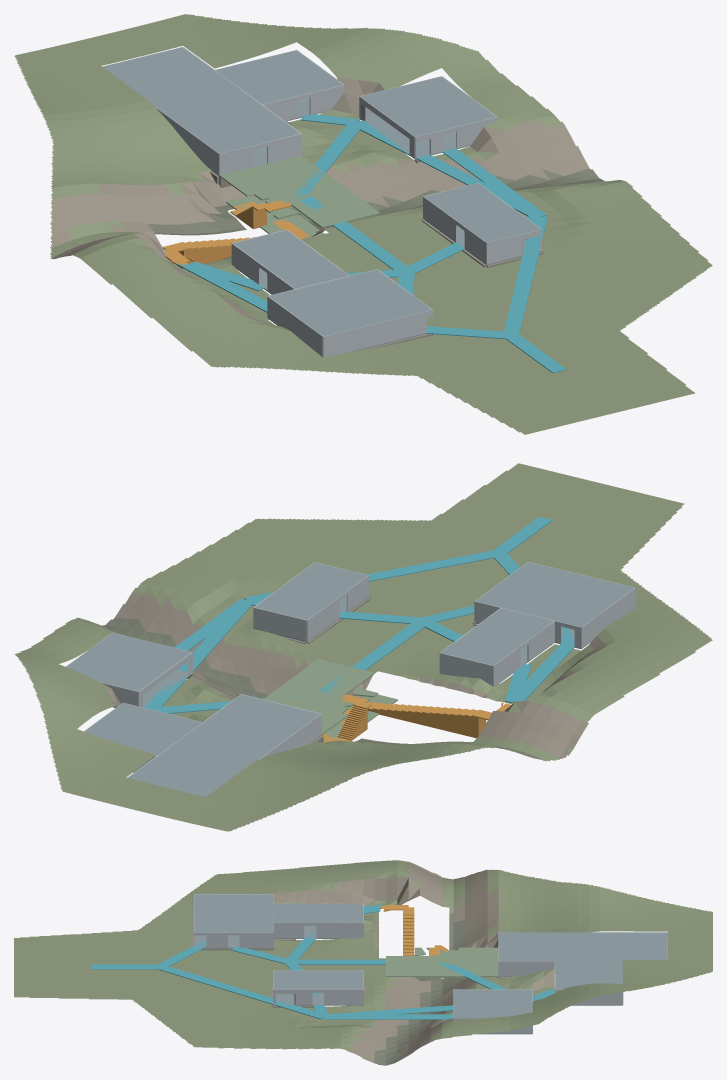
Rendered from aligned-stairs.glb.
The picture shows the model from 3 angles, top to bottom: view 1: azimuth 30°, elevation 25°; view 2: azimuth 150°, elevation 25°; view 3: azimuth 270°, elevation 25°; orthographic projection. The views are drawn at different scales.
Visible parts, largest first — view 1: Saved editor stair bench terrain WLD-12, Ceiling cap tunnel, Ceiling cap signal, Ceiling cap store, Ceiling cap refuge, Ceiling cap coach-b, Ceiling cap coach-a, Flat route shell Wall signal S, L04 support 0, Floor trestle.008, L14 support 0, Floor trestle.005 (+15 smaller); view 2: Saved editor stair bench terrain WLD-12, Ceiling cap tunnel, Ceiling cap signal, Ceiling cap store, Ceiling cap refuge, Ceiling cap coach-b, Ceiling cap coach-a, Floor trestle.008, L14 support 0, L04 support 0, Wall coach-b N, Wall signal W (+10 smaller); view 3: Saved editor stair bench terrain WLD-12, Ceiling cap tunnel, Ceiling cap signal, Ceiling cap store, Ceiling cap coach-b, Ceiling cap coach-a, Ceiling cap refuge, L04 support 0, Floor trestle.008, Flat route shell Wall coach-a E, L15 support 0, Flat route shell Wall tunnel E.001 (+15 smaller).
Part boxes in pixels (left/top/right/bottom): Saved editor stair bench terrain WLD-12: left=14, top=14, right=712, bottom=434; Ceiling cap tunnel: left=102, top=47, right=299, bottom=153; Ceiling cap signal: left=269, top=269, right=432, bottom=336; Ceiling cap store: left=360, top=76, right=496, bottom=136; Ceiling cap refuge: left=215, top=50, right=342, bottom=104; Ceiling cap coach-b: left=424, top=183, right=540, bottom=242; Ceiling cap coach-a: left=233, top=230, right=349, bottom=288; Flat route shell Wall signal S: left=323, top=310, right=432, bottom=357; L04 support 0: left=503, top=216, right=547, bottom=335; Floor trestle.008: left=293, top=188, right=380, bottom=226; L14 support 0: left=354, top=120, right=545, bottom=218; Floor trestle.005: left=248, top=155, right=324, bottom=185; Saved editor stair bench terrain WLD-12: left=14, top=463, right=712, bottom=831; Ceiling cap tunnel: left=128, top=694, right=320, bottom=796; Ceiling cap signal: left=475, top=562, right=634, bottom=627; Ceiling cap store: left=66, top=633, right=191, bottom=691; Ceiling cap refuge: left=84, top=703, right=202, bottom=755; Ceiling cap coach-b: left=255, top=562, right=367, bottom=619; Ceiling cap coach-a: left=440, top=608, right=553, bottom=665; Floor trestle.008: left=285, top=659, right=369, bottom=695; L14 support 0: left=144, top=599, right=253, bottom=710; L04 support 0: left=244, top=550, right=501, bottom=602; Wall coach-b N: left=253, top=607, right=306, bottom=641; Wall signal W: left=581, top=588, right=635, bottom=648; Saved editor stair bench terrain WLD-12: left=14, top=860, right=712, bottom=1065; Ceiling cap tunnel: left=498, top=932, right=667, bottom=960; Ceiling cap signal: left=194, top=894, right=273, bottom=932; Ceiling cap store: left=453, top=989, right=532, bottom=1018; Ceiling cap coach-b: left=273, top=970, right=363, bottom=989; Ceiling cap coach-a: left=273, top=903, right=363, bottom=922; Ceiling cap refuge: left=555, top=961, right=622, bottom=989; L04 support 0: left=157, top=965, right=325, bottom=1019; Floor trestle.008: left=386, top=957, right=434, bottom=976; Flat route shell Wall coach-a E: left=316, top=922, right=363, bottom=938; L15 support 0: left=324, top=1014, right=453, bottom=1019; Flat route shell Wall tunnel E.001: left=498, top=961, right=554, bottom=976.
Bounding box in the file's own units: 75 × 10.11 × 124.
